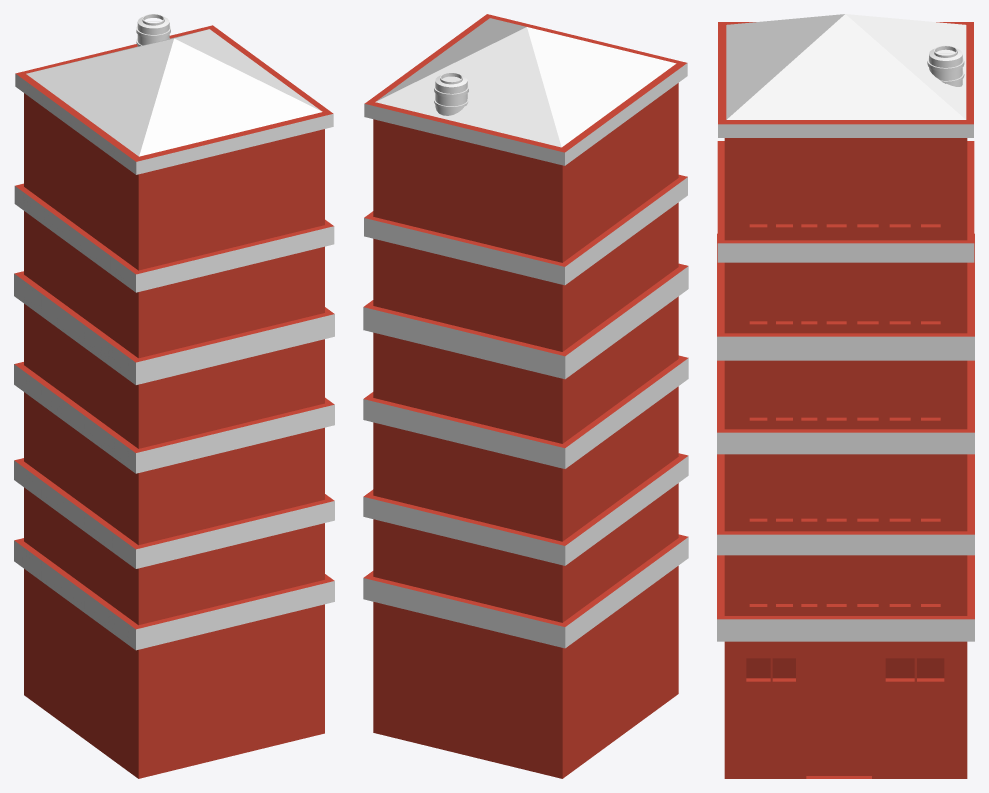
File: Building_26_Red.glb
3 renders of one model, left to right at view 1: azimuth 30°, elevation 25°; view 2: azimuth 150°, elevation 25°; view 3: azimuth 270°, elevation 25°, orthographic. The views are drawn at different scales.
Parts seen in each view (by area): view 1: pCube2; view 2: pCube2; view 3: pCube2.
Boxes of the visible parts, <box> form: pCube2: <box>14,14,334,778</box>; pCube2: <box>363,14,688,778</box>; pCube2: <box>717,14,974,778</box>.
Size of the model in its own units: 24.48 by 79.49 by 25.93.
